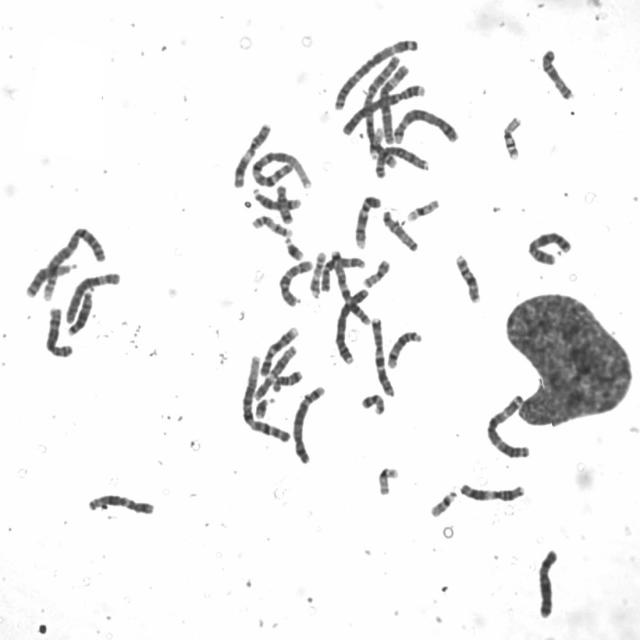A1: (237, 350, 293, 444), (248, 147, 315, 189)
A2: (32, 222, 108, 302), (362, 54, 400, 170)
A3: (331, 34, 421, 112), (483, 390, 533, 460)
B4: (337, 78, 427, 136), (332, 284, 372, 365)
B5: (289, 382, 328, 465), (391, 104, 461, 145)
C10: (275, 255, 315, 309), (318, 252, 367, 292)
C11: (230, 119, 273, 189), (457, 478, 527, 504)
C12: (252, 341, 298, 401), (84, 490, 156, 516)
C6: (61, 268, 122, 327), (378, 62, 413, 146)
C7: (323, 245, 372, 327), (368, 313, 397, 398)
C8: (371, 142, 431, 179), (42, 302, 74, 359)
C9: (257, 322, 300, 378), (352, 191, 384, 250)
D13: (22, 260, 78, 300), (65, 285, 96, 337)
D14: (385, 327, 425, 370), (248, 184, 302, 212)
D15: (538, 44, 576, 102), (380, 206, 421, 253)
E16: (452, 250, 483, 304), (499, 112, 524, 162)
E17: (249, 210, 294, 238), (307, 247, 328, 300)
E18: (269, 366, 304, 392), (273, 182, 294, 225)
F19: (404, 194, 442, 223), (375, 462, 401, 497)
F20: (360, 254, 392, 289), (358, 390, 386, 416)
G21: (281, 234, 305, 262), (253, 397, 276, 422)
G22: (427, 486, 459, 519), (365, 124, 386, 160)
X: (533, 544, 561, 620), (525, 228, 573, 266)
